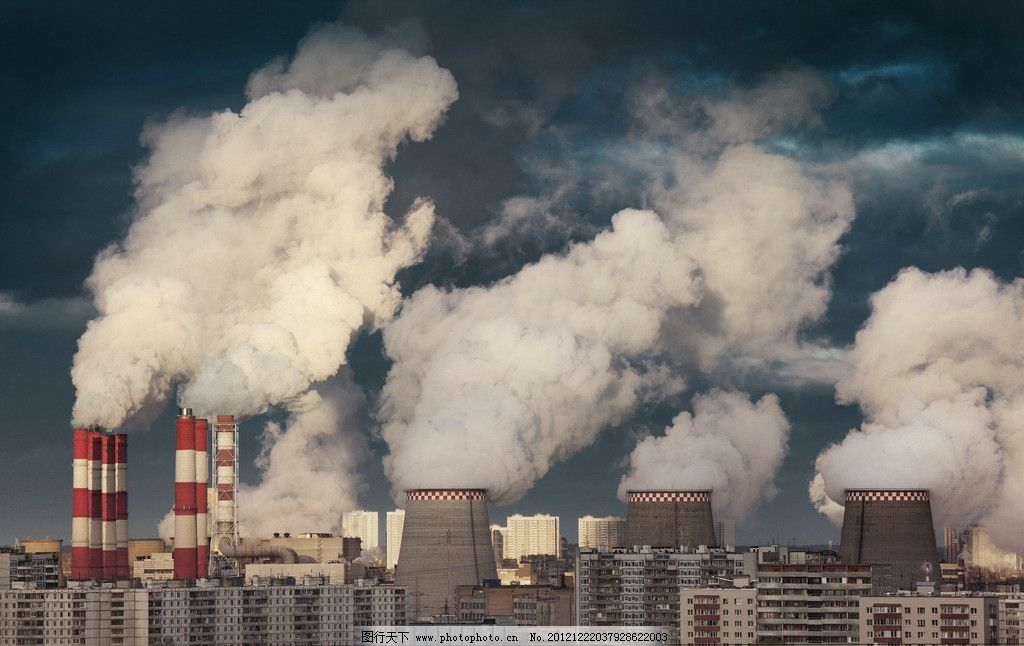dust: (378, 211, 665, 501), (148, 204, 398, 426), (820, 267, 1016, 512), (69, 181, 169, 454), (617, 392, 789, 504)
